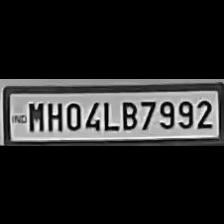0: (61, 98, 80, 130)
2: (193, 96, 213, 128)
4: (83, 97, 101, 130)
7: (138, 96, 156, 130)
9: (156, 96, 176, 128), (175, 96, 193, 128)
B: (118, 97, 138, 129)
H: (46, 98, 62, 130)
L: (101, 97, 117, 130)
M: (26, 98, 44, 130)
